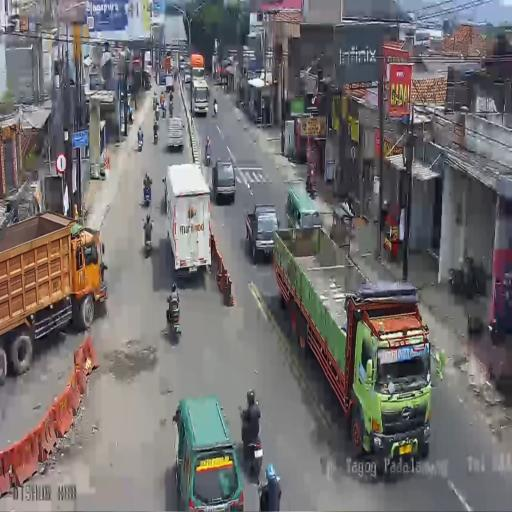car: (172, 395, 243, 510), (246, 204, 278, 262), (211, 160, 236, 204), (165, 74, 173, 91), (184, 67, 191, 84), (179, 56, 185, 71)
motorcycle: (212, 103, 218, 118), (153, 128, 158, 145), (161, 102, 166, 118)
truck: (164, 162, 211, 276), (189, 55, 209, 116)
